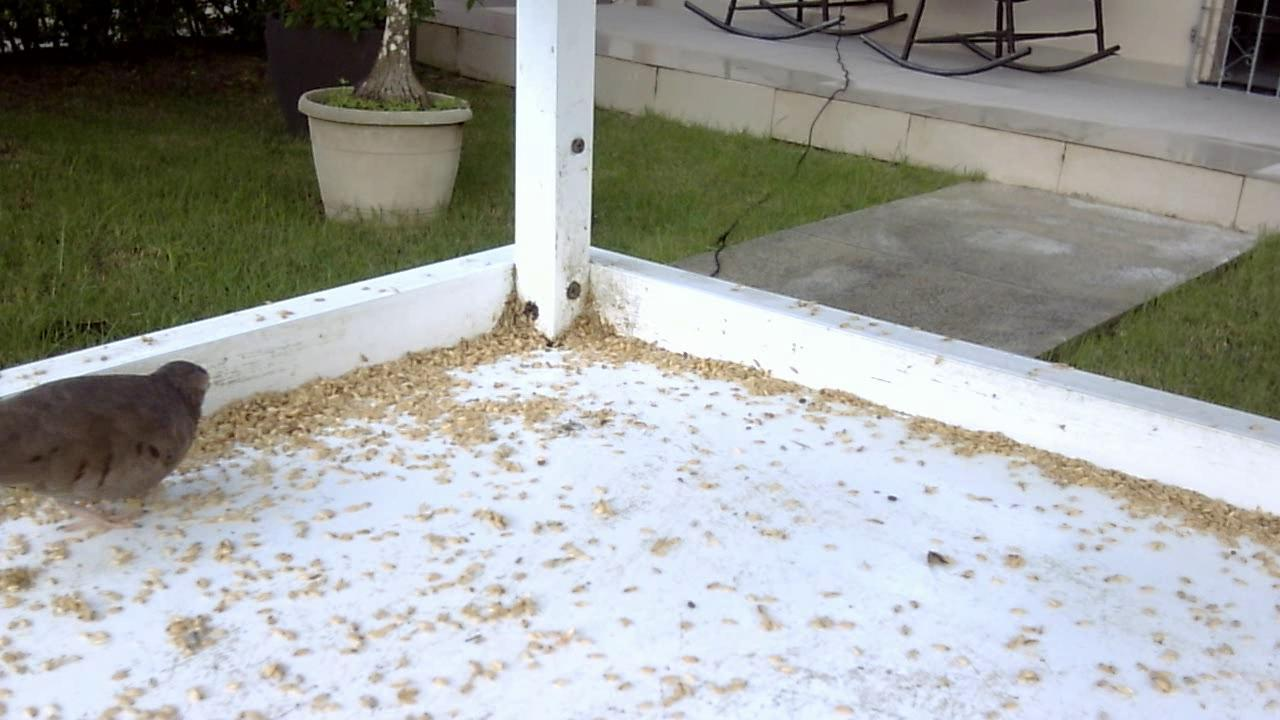rolinha: (6, 354, 220, 524)
